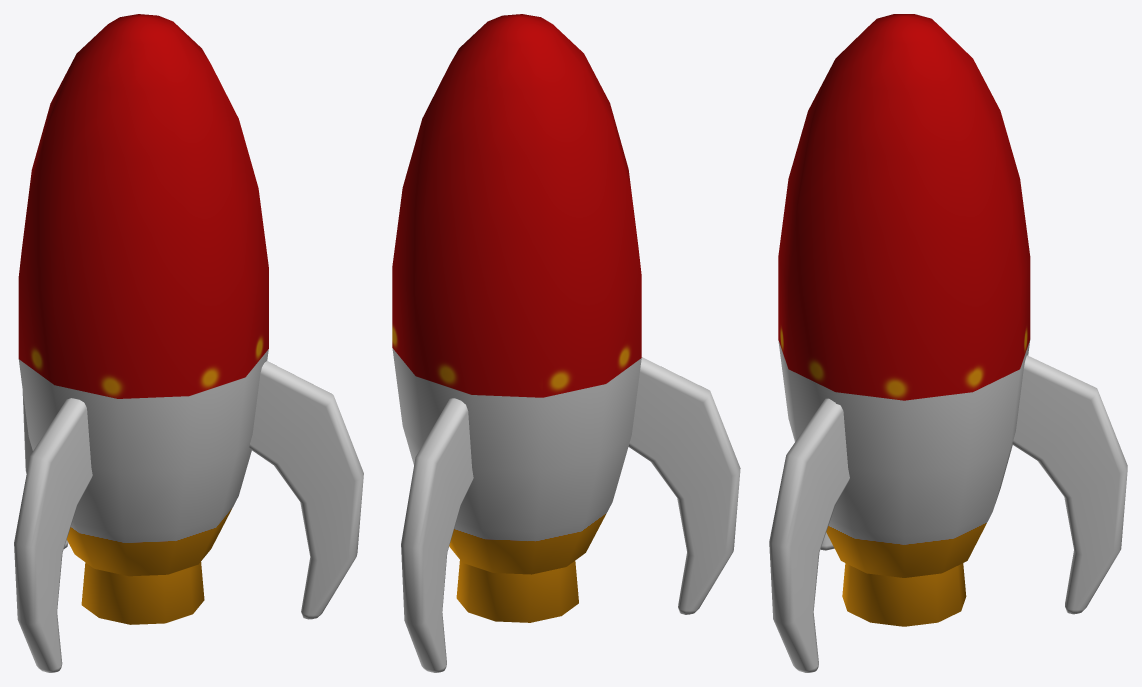
File: MEC0110038.fbx
3 views of the same model, side by side, from view 1: azimuth 30°, elevation 25°; view 2: azimuth 150°, elevation 25°; view 3: azimuth 270°, elevation 25° (orthographic).
Visible parts, largest first — view 1: smMEC0110038; view 2: smMEC0110038; view 3: smMEC0110038.
Part boxes in pixels (x1,y1,x2,y2): smMEC0110038: (14, 14, 363, 672); smMEC0110038: (392, 14, 740, 672); smMEC0110038: (769, 14, 1127, 672).
Bounding box in the file's own units: 143 × 242 × 132.
1 material, 1 textured.
